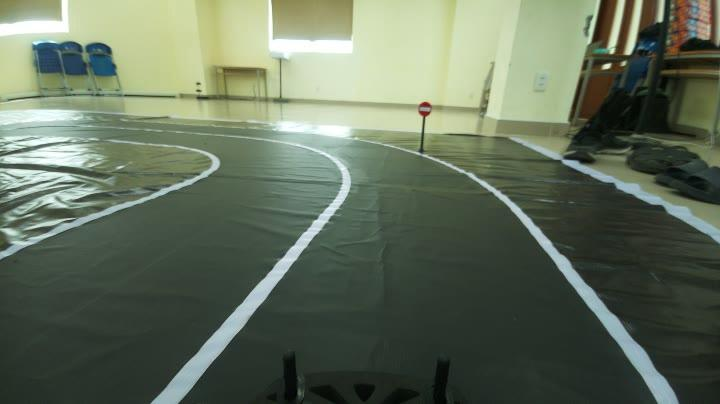no_entry: (412, 99, 441, 121)
